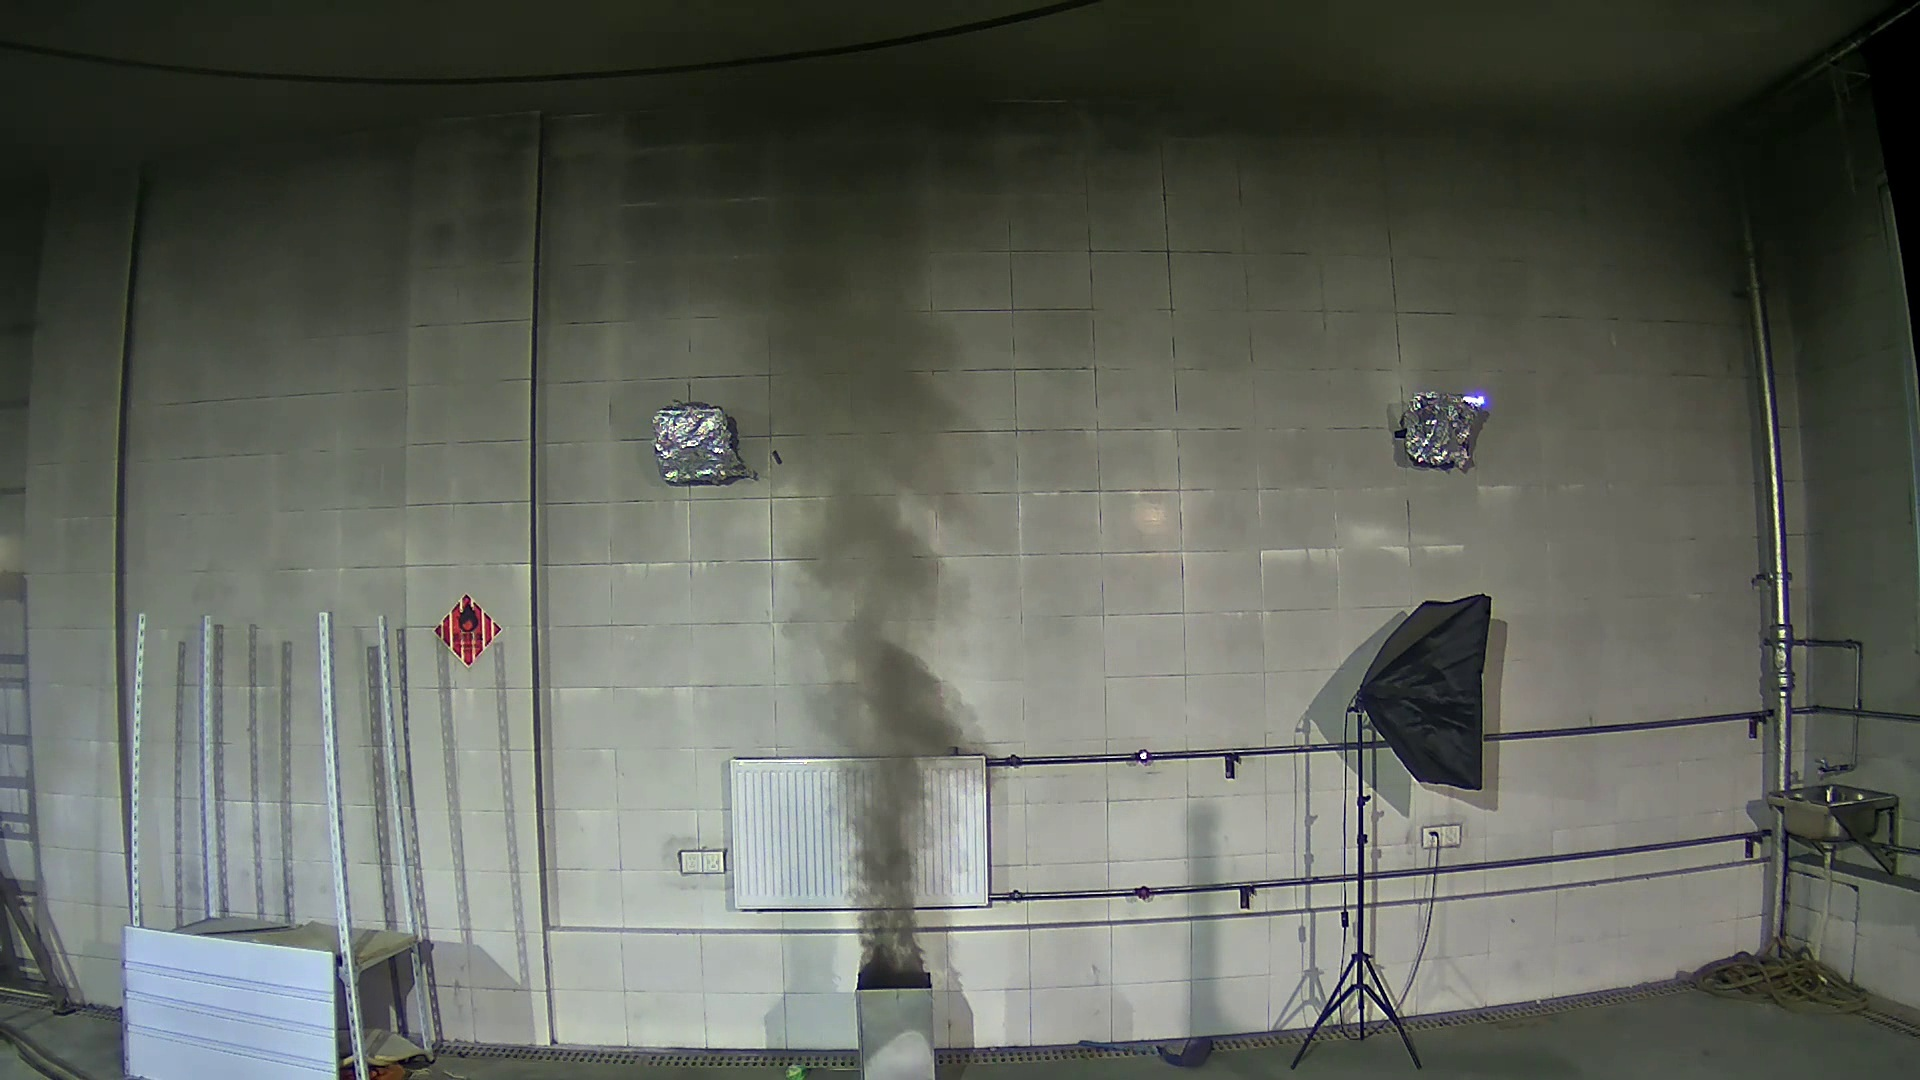smoke: (711, 156, 977, 957)
